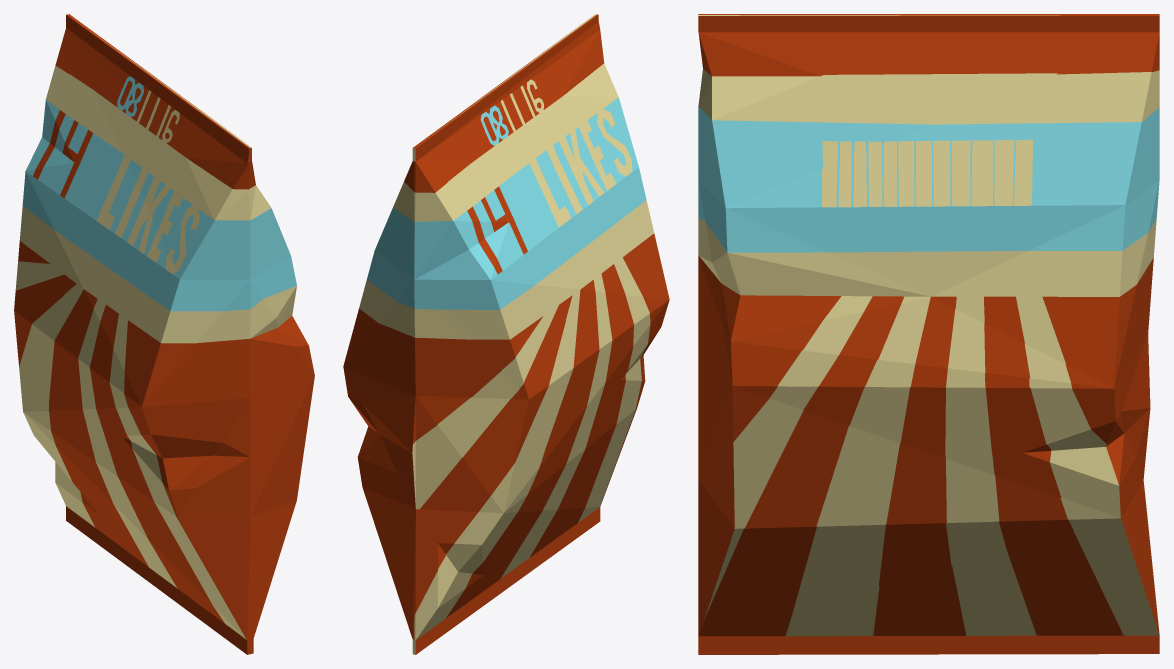
Rendered from Baconcrisps.glb.
The picture shows the model from 3 angles, left to right: view 1: azimuth 30°, elevation 25°; view 2: azimuth 150°, elevation 25°; view 3: azimuth 270°, elevation 25°; orthographic projection. The views are drawn at different scales.
Parts seen in each view (by area): view 1: group478861069; view 2: group478861069; view 3: group478861069.
Part boxes in pixels (box(x1,y1,x2,y2)): group478861069: box(14, 14, 314, 654); group478861069: box(343, 14, 669, 654); group478861069: box(698, 14, 1159, 654).
Size of the model in its own units: 0.8384 by 2.26 by 1.48.
